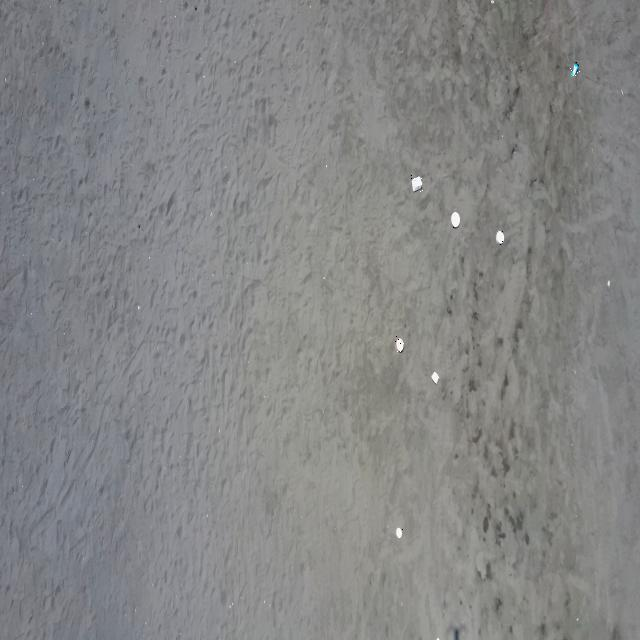take-away-containers: (411, 174, 423, 194), (450, 210, 461, 229), (430, 370, 441, 385), (395, 336, 404, 354), (496, 230, 504, 246), (395, 526, 403, 540)
takeaway-cup: (570, 60, 580, 77)
